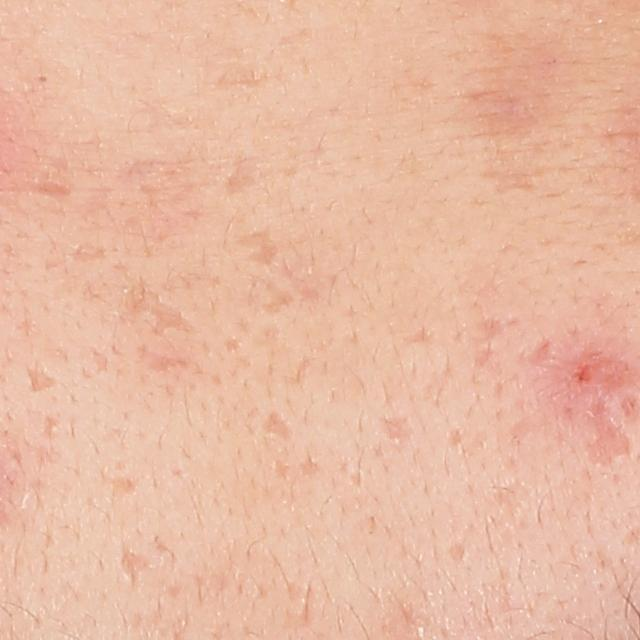atrophic_scar: (121, 271, 200, 335), (577, 413, 634, 469), (482, 160, 559, 195), (239, 220, 286, 269), (18, 177, 80, 206), (136, 342, 191, 374), (222, 157, 262, 199), (121, 552, 160, 590), (257, 282, 299, 316), (260, 410, 297, 448), (521, 335, 553, 372), (67, 237, 106, 262), (383, 418, 419, 444), (294, 352, 317, 388), (101, 474, 136, 497), (444, 539, 468, 563), (43, 411, 61, 439), (91, 351, 111, 374), (445, 429, 465, 450), (273, 462, 291, 482)
comedo: (33, 72, 50, 83)
